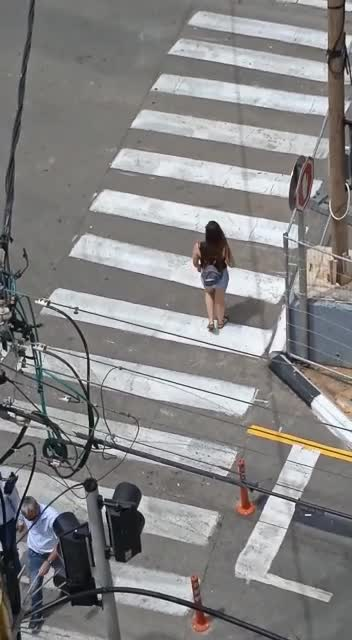crosswalk: (35, 1, 329, 621)
person: (174, 207, 246, 343)
